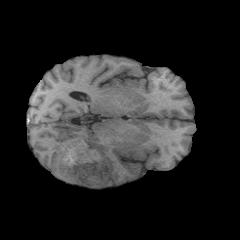glioma: (52, 137, 110, 188)
